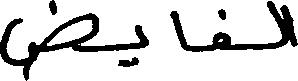X: (0, 0, 97, 80), (268, 0, 285, 53), (212, 4, 229, 55), (171, 6, 188, 55), (135, 20, 149, 69), (287, 2, 297, 51)
